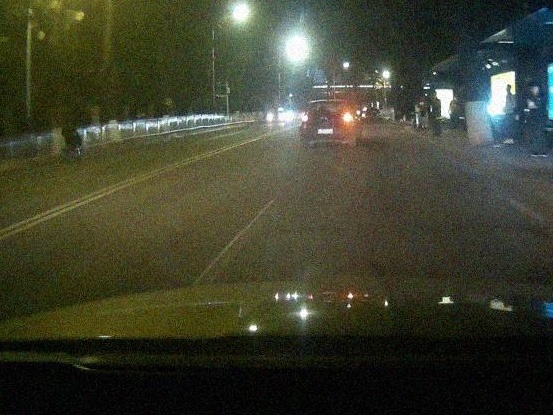L_light: (301, 115, 309, 122)
R_light: (341, 113, 352, 122)
T_light: (322, 101, 330, 104)
night-right: (299, 99, 354, 148)
